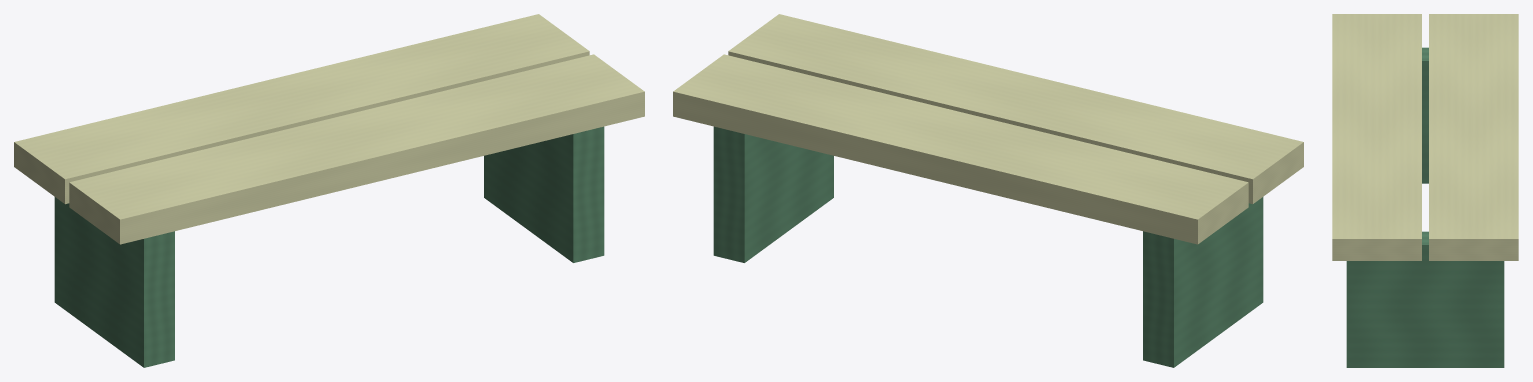
File: atlas100-solarpunk-util03.lod1.glb
The picture shows the model from 3 angles, left to right: view 1: azimuth 30°, elevation 25°; view 2: azimuth 150°, elevation 25°; view 3: azimuth 270°, elevation 25°; orthographic projection. The views are drawn at different scales.
Visible parts, largest first — view 1: atlas100-solarpunk-util03:part-004, atlas100-solarpunk-util03:part-002, atlas100-solarpunk-util03:part-000, atlas100-solarpunk-util03:part-001; view 2: atlas100-solarpunk-util03:part-002, atlas100-solarpunk-util03:part-004, atlas100-solarpunk-util03:part-000, atlas100-solarpunk-util03:part-001; view 3: atlas100-solarpunk-util03:part-002, atlas100-solarpunk-util03:part-004, atlas100-solarpunk-util03:part-001, atlas100-solarpunk-util03:part-000.
Boxes of the visible parts, <box> form: atlas100-solarpunk-util03:part-004: <box>69,54,644,244</box>; atlas100-solarpunk-util03:part-002: <box>14,14,589,204</box>; atlas100-solarpunk-util03:part-000: <box>54,197,174,367</box>; atlas100-solarpunk-util03:part-001: <box>484,126,604,262</box>; atlas100-solarpunk-util03:part-002: <box>673,54,1248,244</box>; atlas100-solarpunk-util03:part-004: <box>728,14,1303,204</box>; atlas100-solarpunk-util03:part-000: <box>1143,197,1263,367</box>; atlas100-solarpunk-util03:part-001: <box>713,126,833,262</box>; atlas100-solarpunk-util03:part-002: <box>1429,14,1518,260</box>; atlas100-solarpunk-util03:part-004: <box>1332,14,1421,260</box>; atlas100-solarpunk-util03:part-001: <box>1346,231,1504,367</box>; atlas100-solarpunk-util03:part-000: <box>1422,47,1428,183</box>.
Bounding box in the file's own units: 2.3 × 0.6799 × 0.8054.
Materials: 2 (2 with a texture image).
